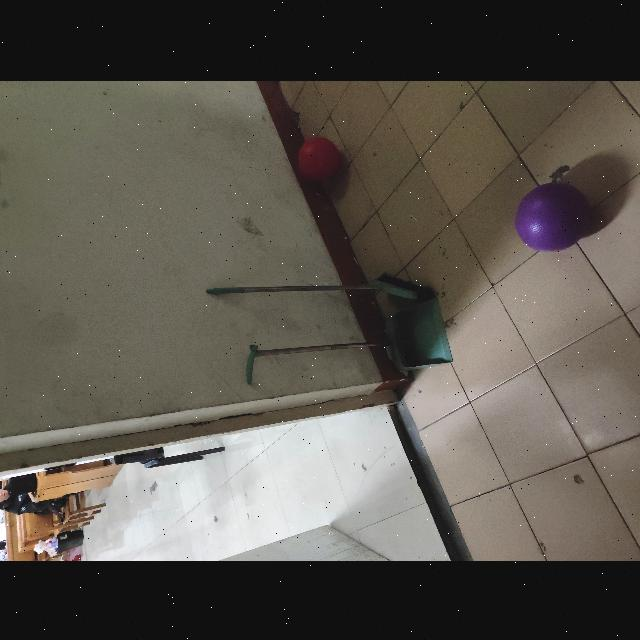P: (512, 180, 592, 252)
R: (298, 136, 344, 180)
